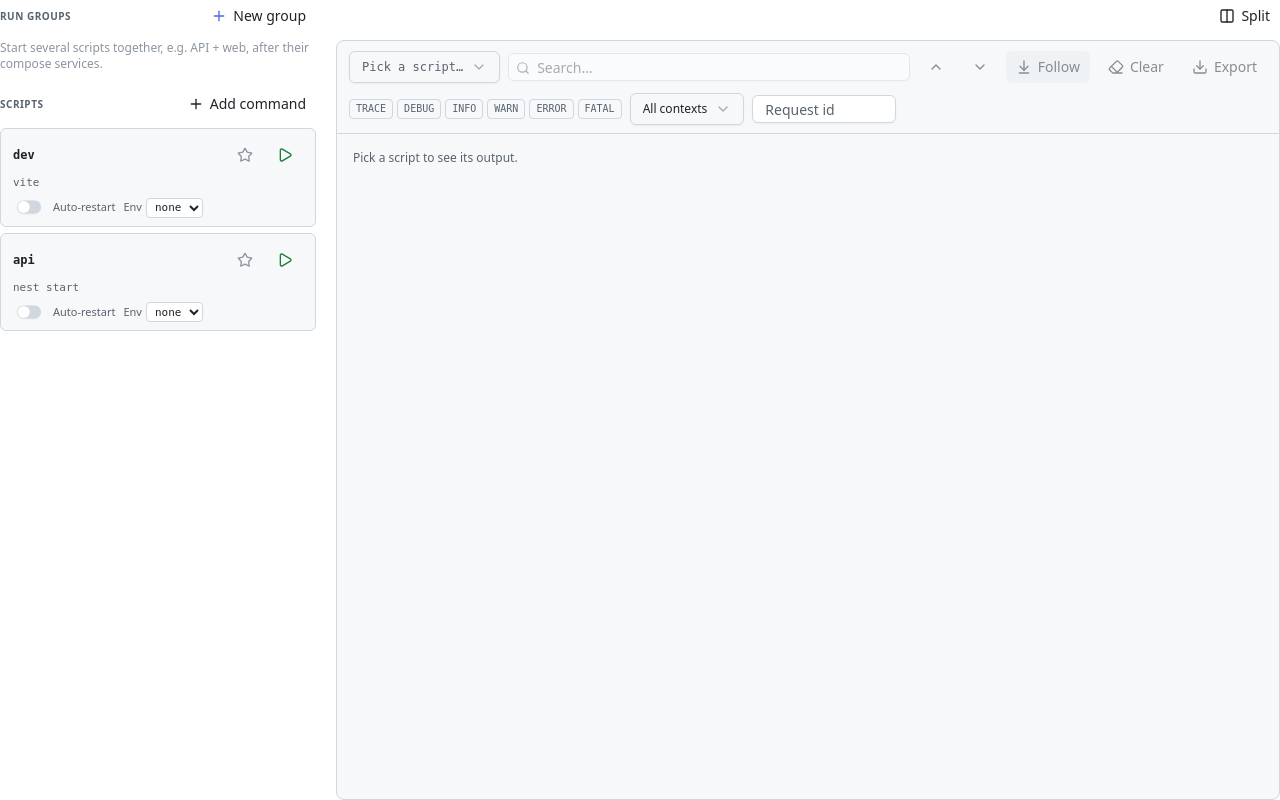
ScriptsPanel › shows the script list and one pane, then splits
Expected: the element "Scripts" is shown, [0, 88, 316, 331]
Click the button "Split".
click(1245, 16)  # box [1209, 0, 1279, 32]
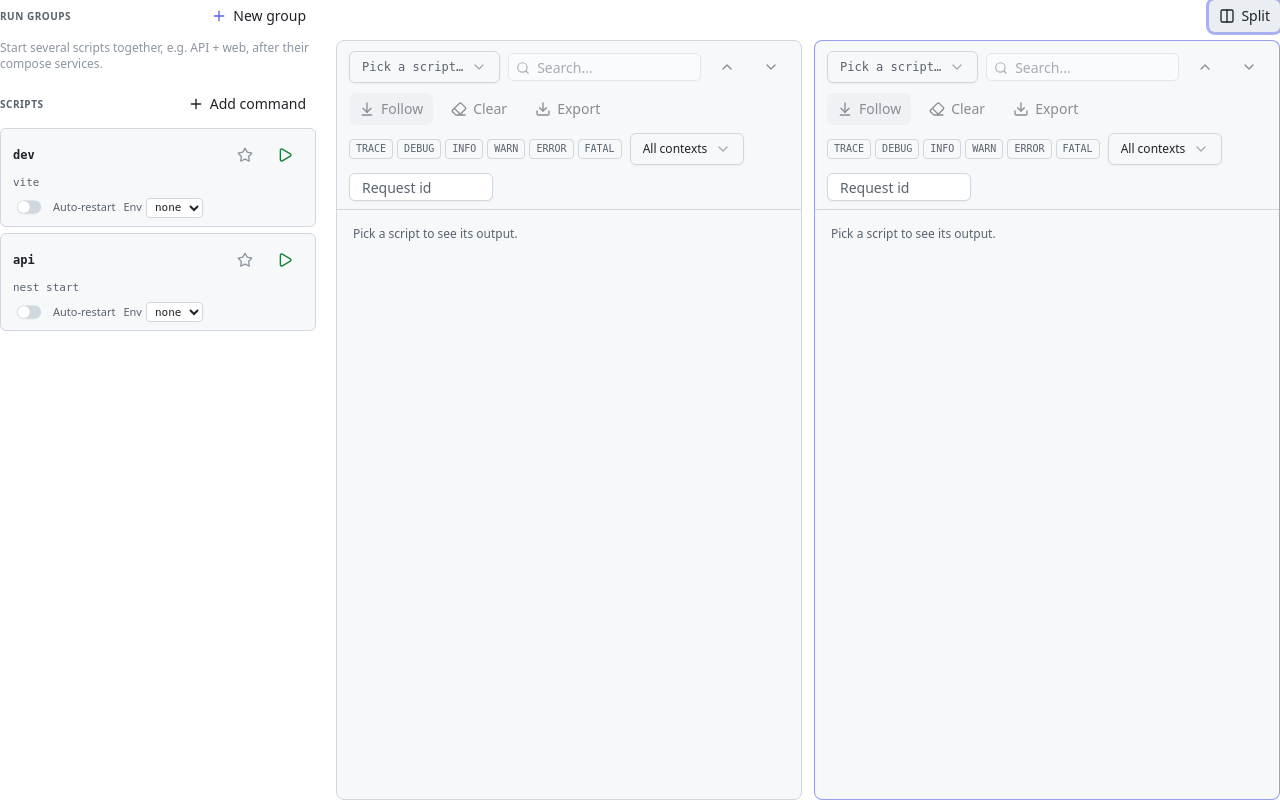
Expected: the number of elements named "Log pane" is 2, [336, 40, 802, 799]; [814, 40, 1279, 799]
Click the button "api".
click(24, 260)  # box [13, 252, 35, 268]
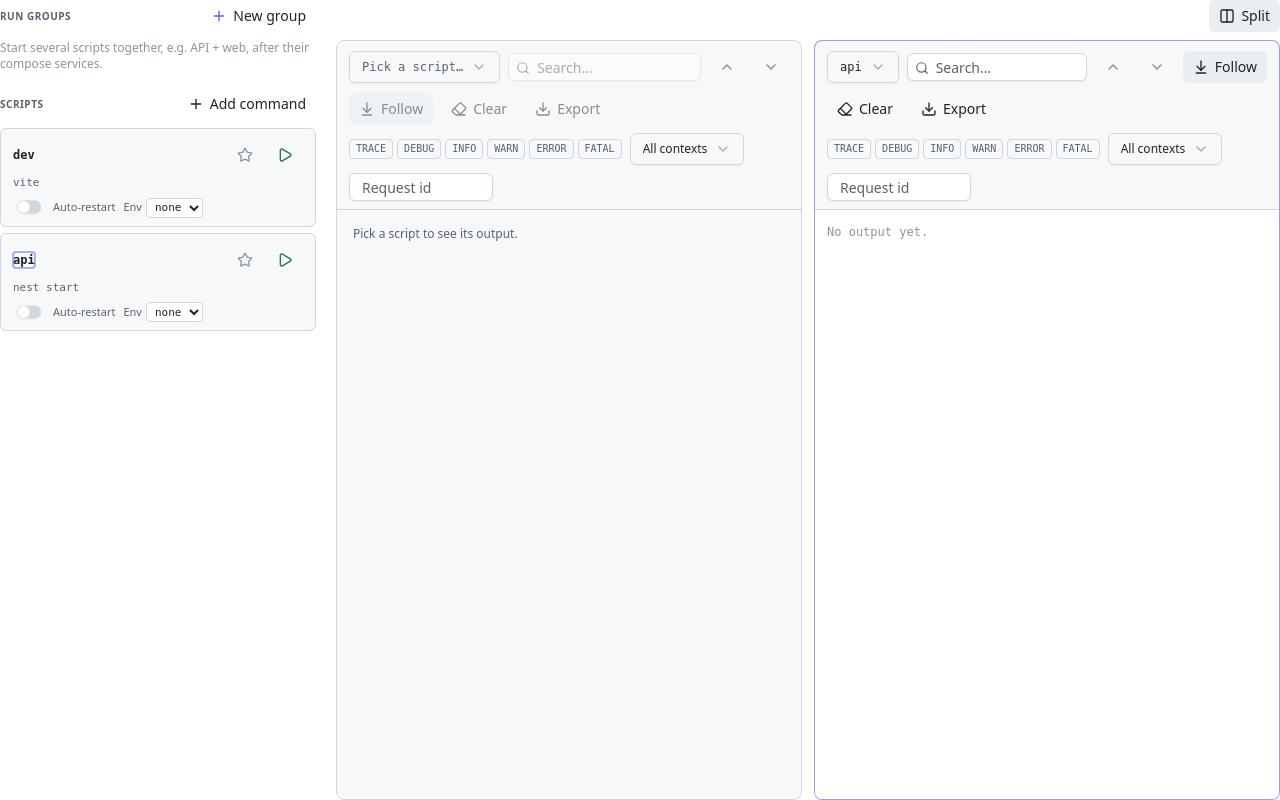
Expected: the element named "api log" is shown, [814, 40, 1279, 799]
